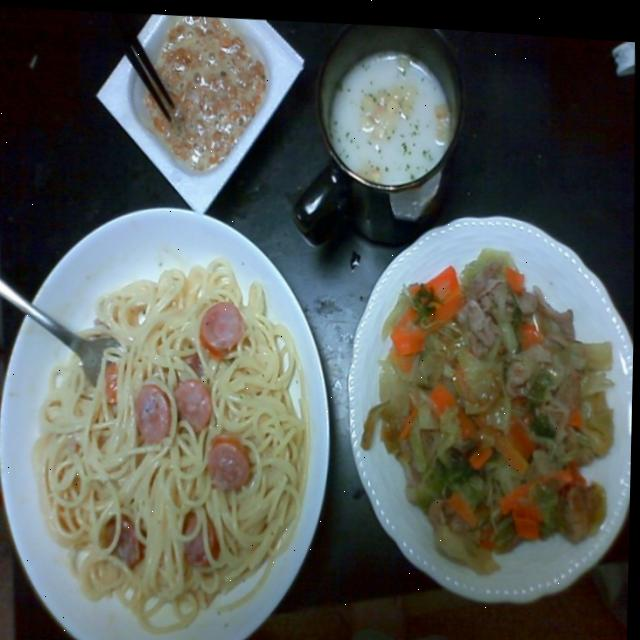蔬菜料理: (357, 229, 632, 571)
